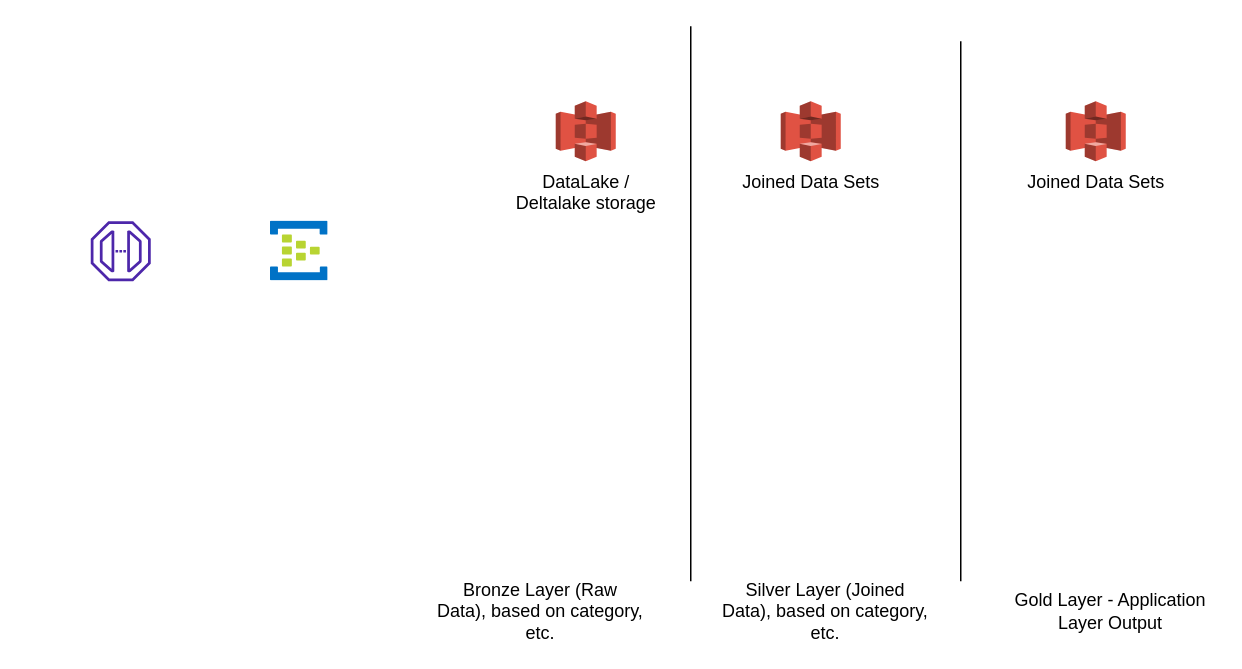
This 1242x669 diagram has some shape labels left out. The shapes that lost their labels are listed below. From the top down, each one's box as (x1, y1, x2, y2) in pixels, then its label:
(90, 220, 150, 280): API for HL7 / FHIR data
(270, 220, 328, 280): Event Hub - For incoming HL7 data (Feed or Pull)
